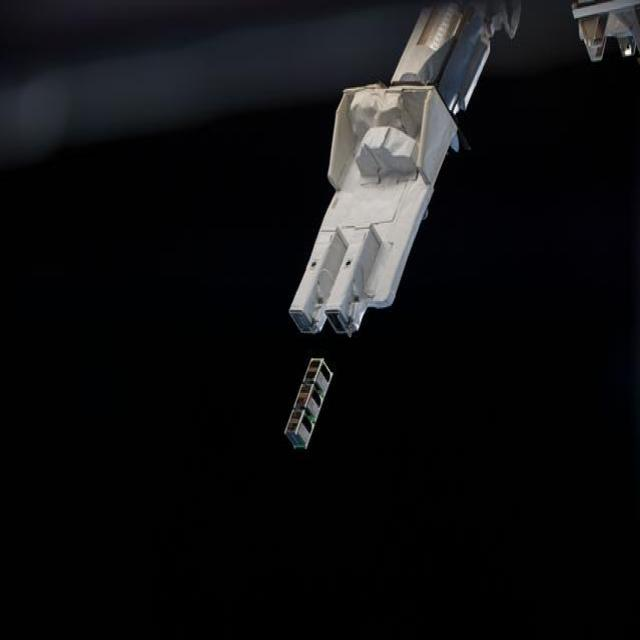satellite: (290, 0, 520, 335), (285, 359, 332, 448), (572, 0, 640, 59)
